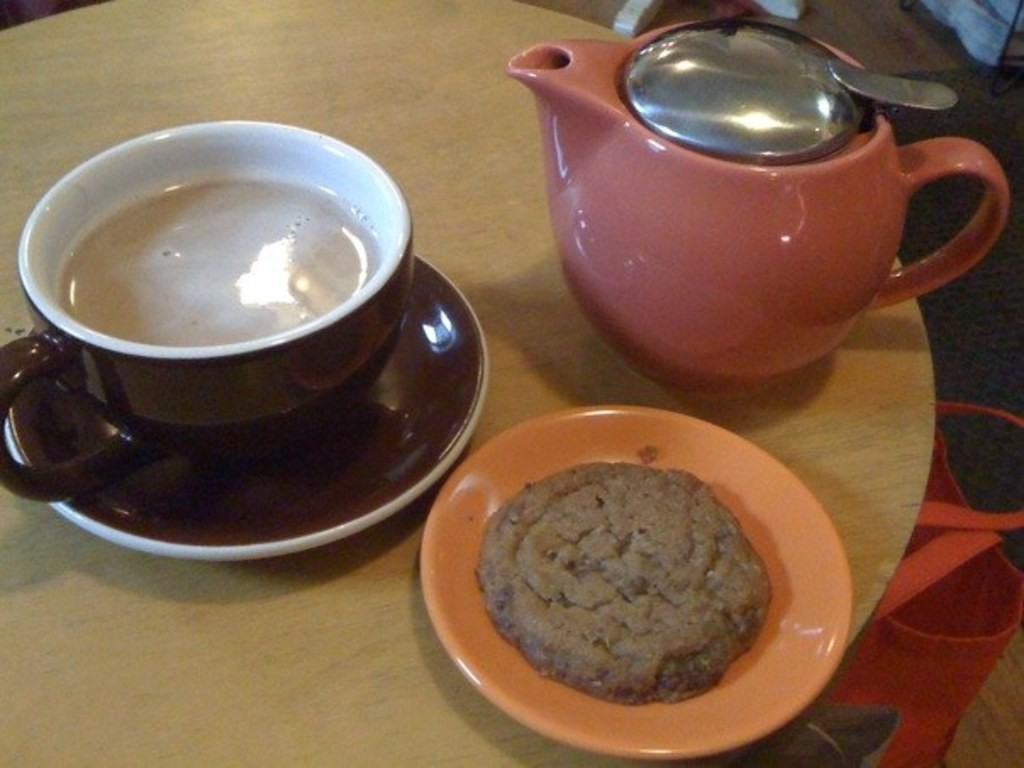teapot: (509, 17, 1010, 397)
